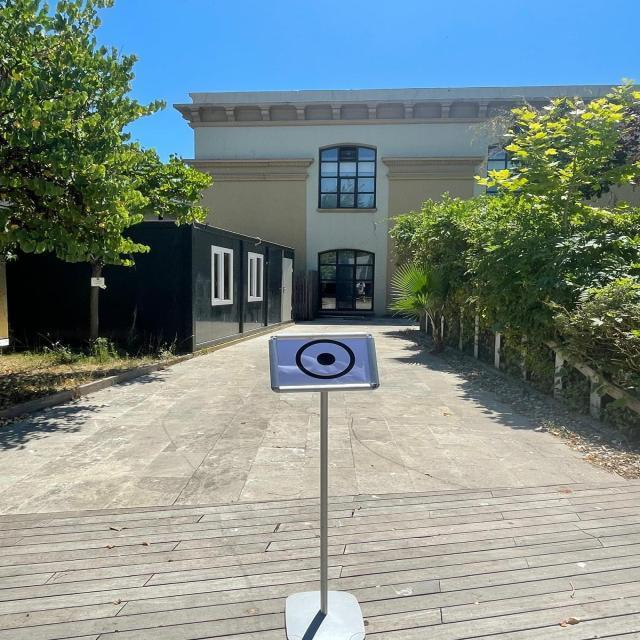Target: (260, 325, 394, 402)
inner: (314, 347, 339, 372)
